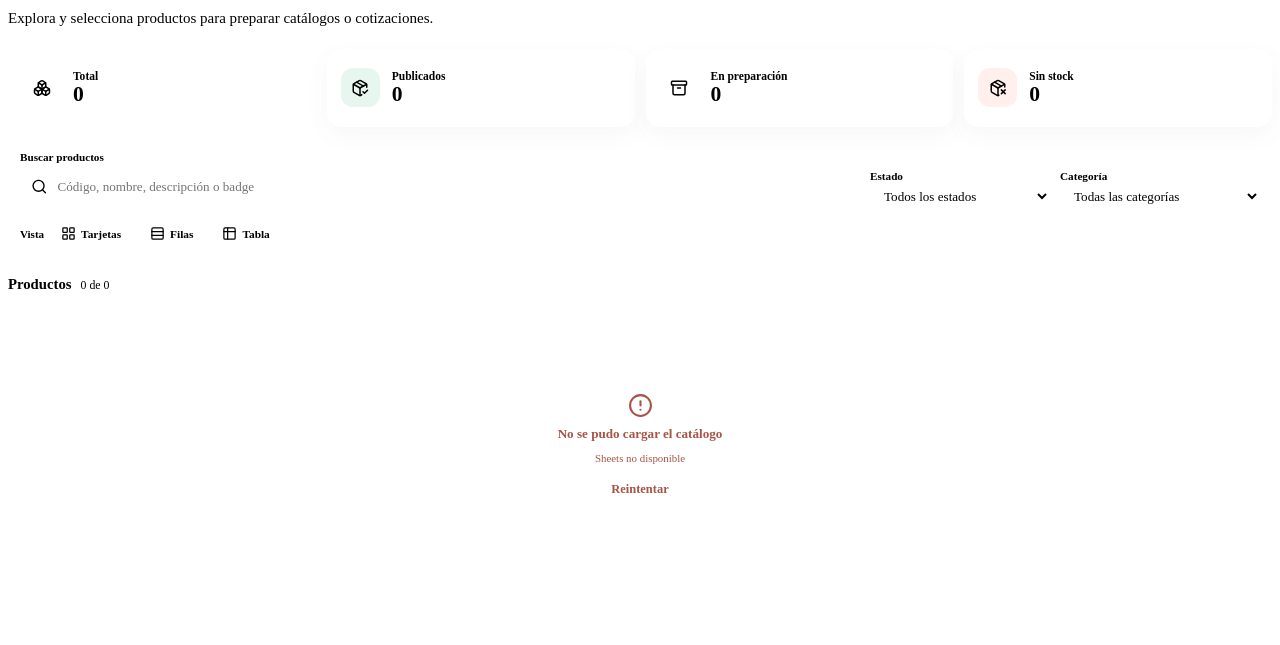
Test: ProductExplorer › informa errores y reintenta la carga
Expected: the message shows "Sheets no disponible", left=595, top=452, right=685, bottom=464
Click the button "Reintentar" at coordinates (640, 489), box left=598, top=482, right=682, bottom=497
(page scrolled)
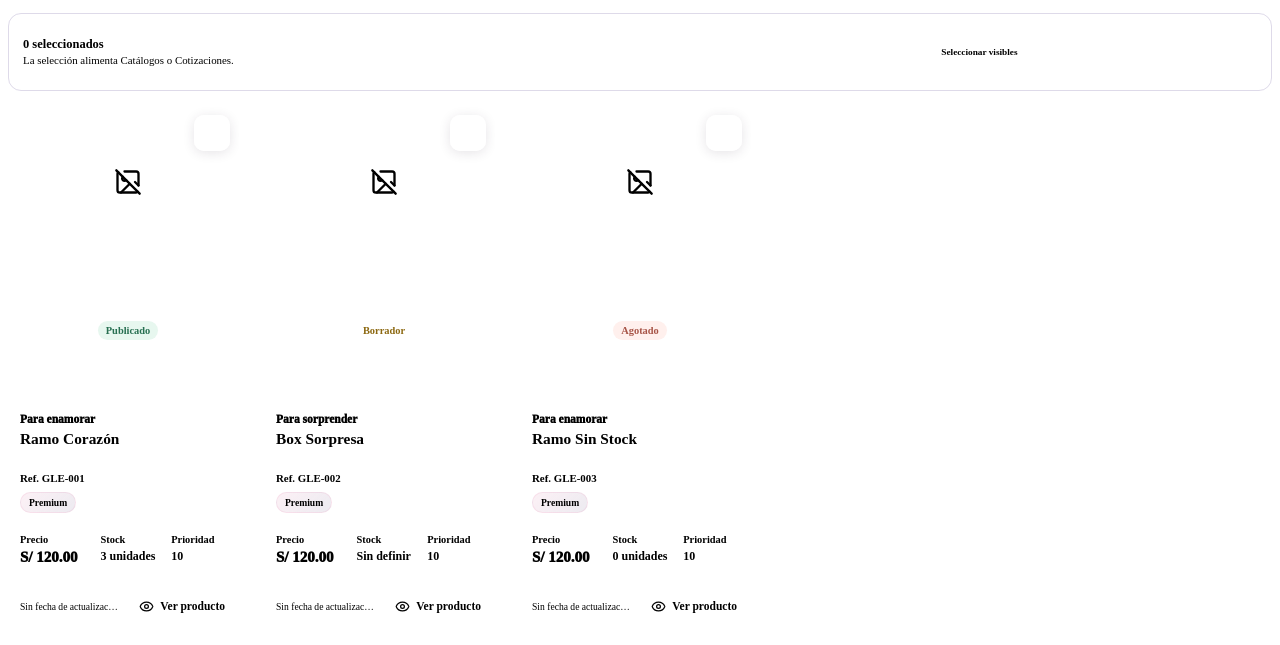
Expected: the heading "Ramo Corazón" is shown, left=20, top=430, right=119, bottom=447
